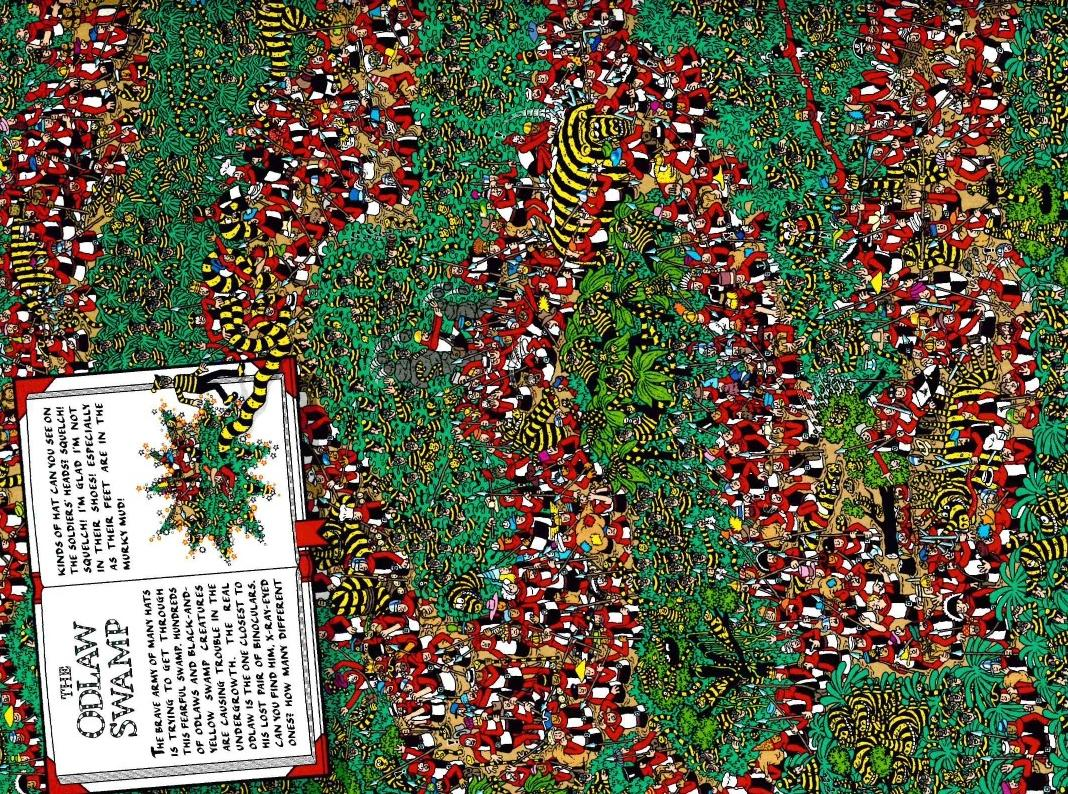waldos: (455, 387, 483, 407)
